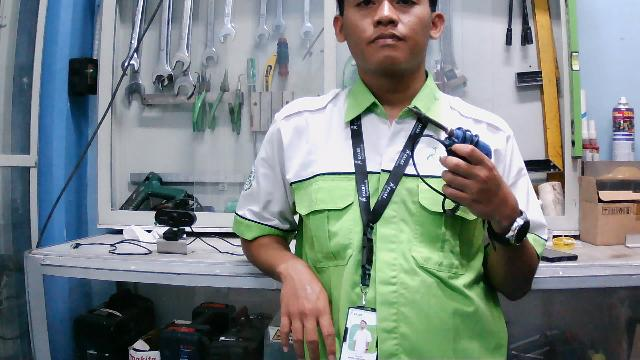solder_electrical: (402, 100, 496, 219)
